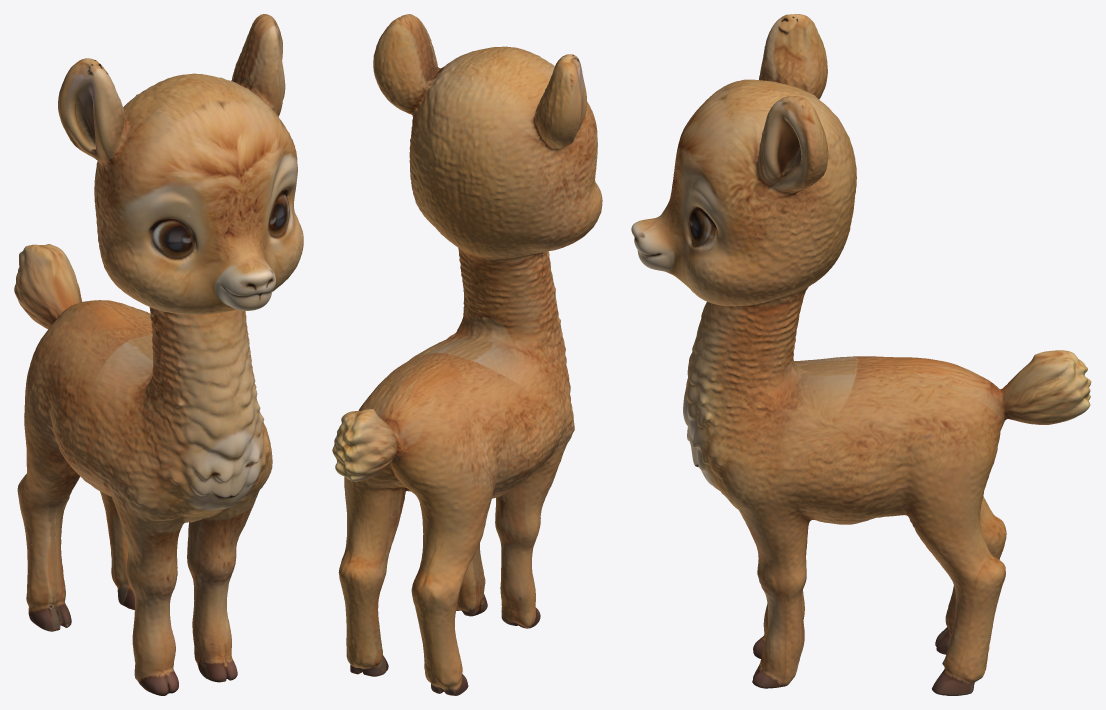
The model's file is Vicuña.glb.
3 renders of one model, left to right at view 1: azimuth 30°, elevation 25°; view 2: azimuth 150°, elevation 25°; view 3: azimuth 270°, elevation 25°, orthographic. The views are drawn at different scales.
Bounding box in the file's own units: 0.7315 × 1.99 × 1.35.
Materials: 1 (1 with a texture image).
